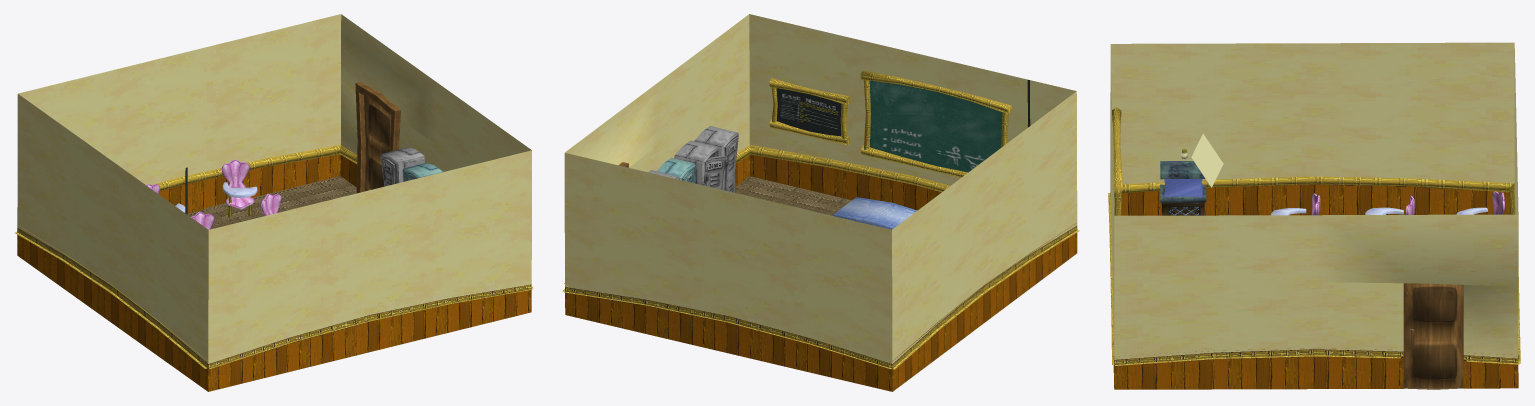
Rendered from mrs._puffs_classroom.glb.
3 views of the same model, side by side, from view 1: azimuth 30°, elevation 25°; view 2: azimuth 150°, elevation 25°; view 3: azimuth 270°, elevation 25° (orthographic). The views are drawn at different scales.
Parts seen in each view (by area): view 1: Object_17, Object_16, Object_15, Object_14, Object_19, Object_23, Object_31, Object_20, Object_11, Object_2; view 2: Object_17, Object_16, Object_4, Object_11, Object_13, Object_12, Object_3, Object_15, Object_9, Object_14, Object_10, Object_2; view 3: Object_17, Object_16, Object_19, Object_14, Object_8, Object_36, Object_3, Object_18, Object_35, Object_11, Object_33, Object_29 (+1 smaller).
Boxes of the visible parts, left/top/right/bottom form: Object_17: left=17, top=14, right=531, bottom=363; Object_16: left=17, top=154, right=531, bottom=391; Object_15: left=187, top=176, right=356, bottom=229; Object_14: left=14, top=144, right=340, bottom=368; Object_19: left=364, top=95, right=391, bottom=191; Object_23: left=355, top=81, right=400, bottom=193; Object_31: left=221, top=159, right=281, bottom=215; Object_20: left=380, top=147, right=425, bottom=186; Object_11: left=209, top=289, right=532, bottom=369; Object_2: left=402, top=163, right=442, bottom=181; Object_17: left=564, top=14, right=1077, bottom=363; Object_16: left=565, top=154, right=1077, bottom=391; Object_4: left=869, top=80, right=1002, bottom=172; Object_11: left=749, top=78, right=1077, bottom=229; Object_13: left=674, top=126, right=738, bottom=192; Object_12: left=776, top=88, right=841, bottom=136; Object_3: left=860, top=70, right=1011, bottom=177; Object_15: left=735, top=176, right=851, bottom=215; Object_9: left=833, top=197, right=917, bottom=229; Object_14: left=564, top=223, right=1079, bottom=369; Object_10: left=777, top=99, right=1017, bottom=180; Object_2: left=657, top=158, right=695, bottom=183; Object_17: left=1110, top=42, right=1518, bottom=359; Object_16: left=1110, top=184, right=1518, bottom=389; Object_19: left=1403, top=283, right=1463, bottom=389; Object_14: left=1121, top=176, right=1520, bottom=363; Object_8: left=1160, top=161, right=1206, bottom=202; Object_36: left=1191, top=133, right=1223, bottom=187; Object_3: left=1112, top=107, right=1122, bottom=215; Object_18: left=1115, top=348, right=1519, bottom=365; Object_35: left=1164, top=179, right=1202, bottom=196; Object_11: left=1108, top=192, right=1121, bottom=364; Object_33: left=1162, top=202, right=1205, bottom=215; Object_29: left=1365, top=207, right=1487, bottom=214.
Size of the model in its own units: 69.33 by 39.62 by 68.99.
35 materials, 35 textured.
